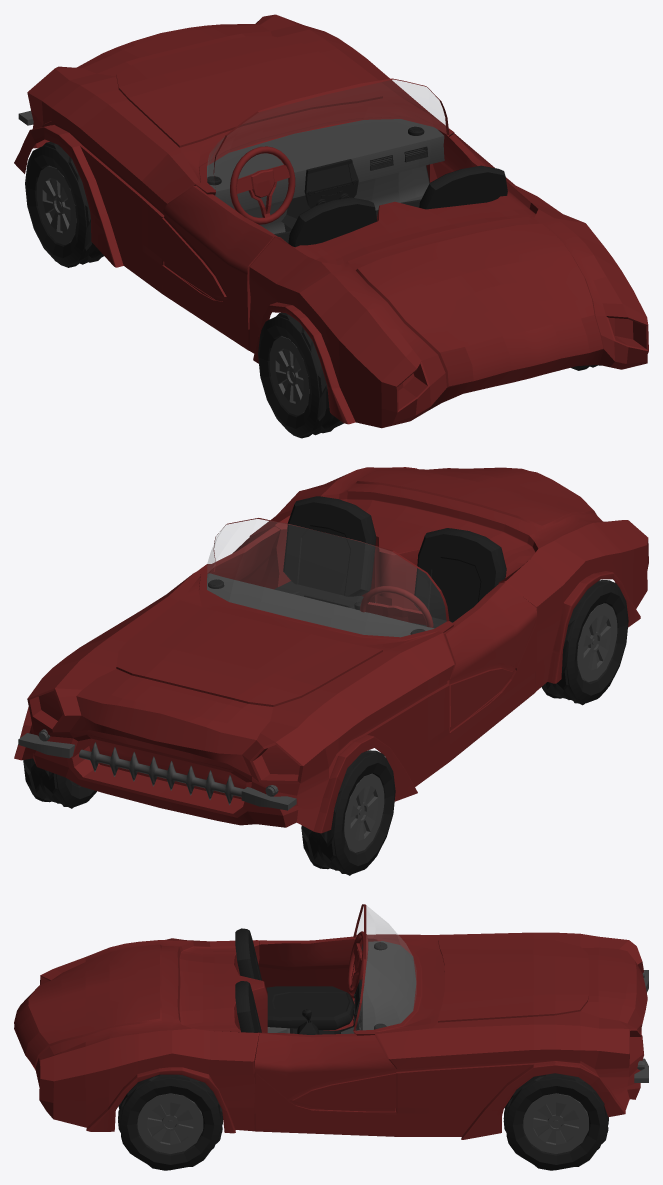
Rendered from car.fbx.
The picture shows the model from 3 angles, top to bottom: view 1: azimuth 30°, elevation 25°; view 2: azimuth 150°, elevation 25°; view 3: azimuth 270°, elevation 25°; orthographic projection. The views are drawn at different scales.
Visible parts, largest first — view 1: car; view 2: car; view 3: car.
Boxes of the visible parts, box(x1,y1,x2,y2) form: car: box(14, 14, 648, 438); car: box(14, 467, 648, 875); car: box(14, 904, 648, 1170).
Size of the model in its own units: 5.05 by 3.32 by 10.66.
